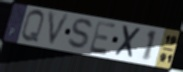1: (140, 30, 159, 63)
E: (88, 19, 118, 57)
Q: (20, 9, 46, 45)
S: (66, 17, 95, 51)
V: (47, 11, 72, 50)
X: (113, 24, 143, 61)
